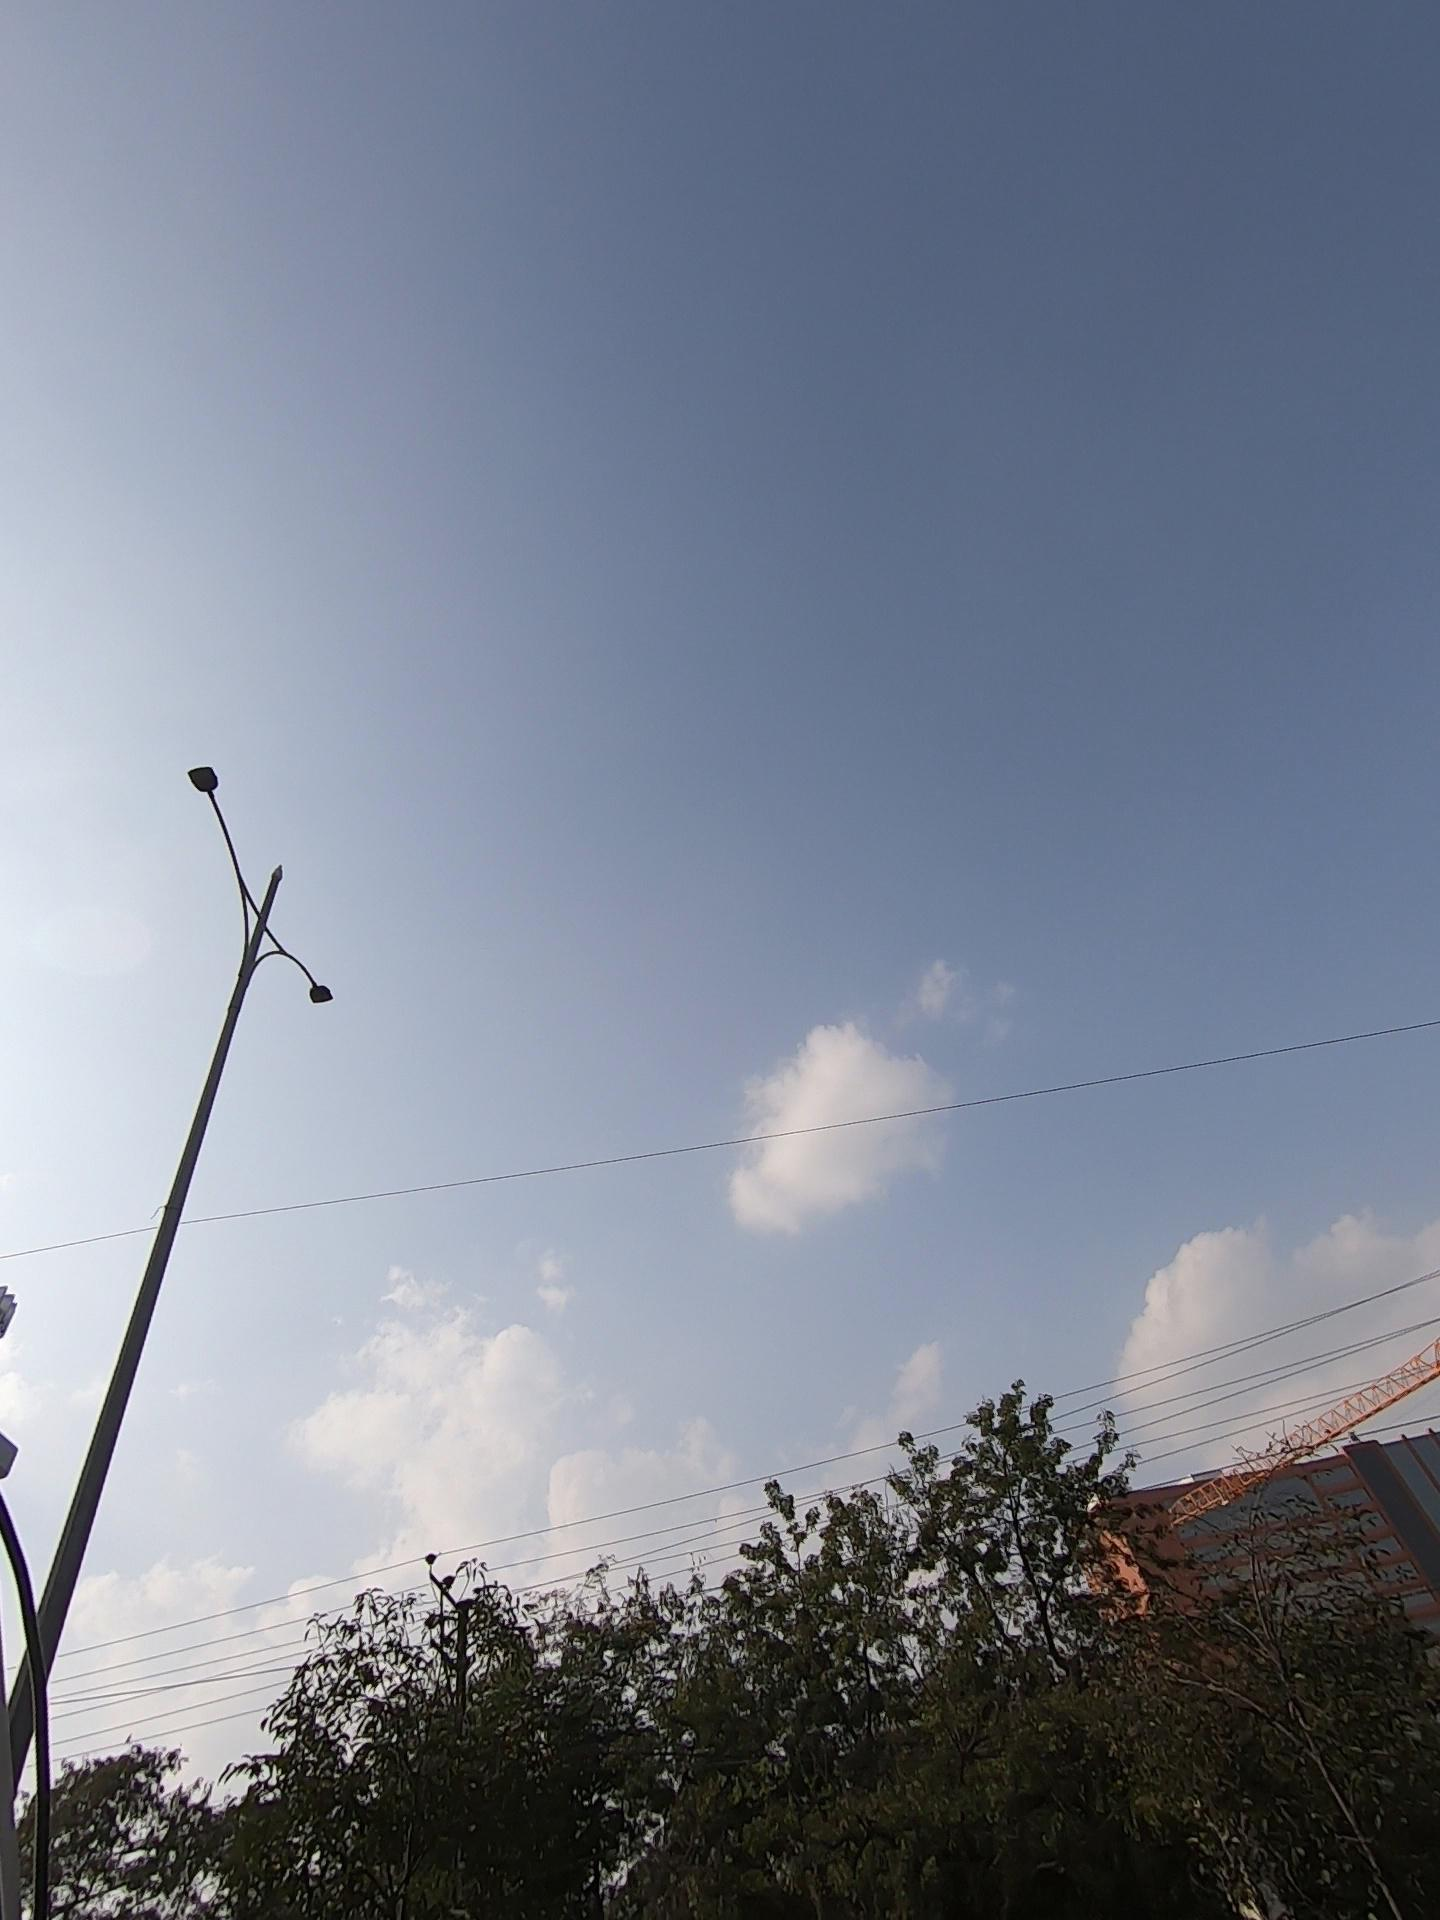off: (61, 730, 448, 1069)
